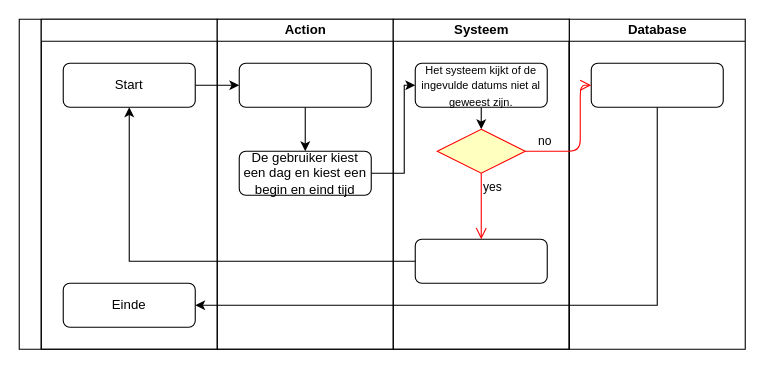
This 765x369 diagram has some shape labels left out. Each missing label, with the centre of its shape:
"Condition" goes at point 480,150.
"De beschikbaarheids data voor de gebruiker wordt opgehaald" goes at point 656,84.
"De gebruiker heeft ingelogd en gaat naar de 'Planner' pagina" goes at point 304,84.
"De gebruiker krijgt een error die zegt dat de datum al is geweest." goes at point 480,260.
